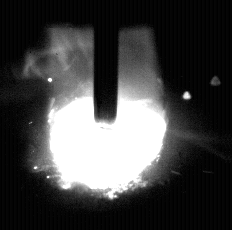arame: (95, 0, 118, 123)
poca: (50, 0, 166, 230)
